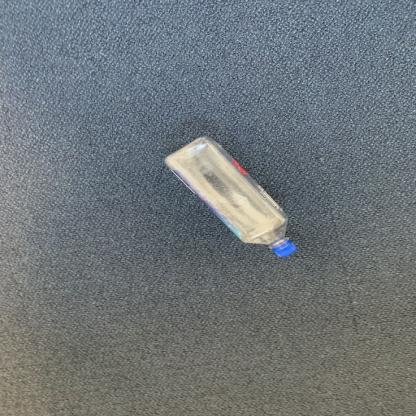trash: (164, 140, 300, 260)
